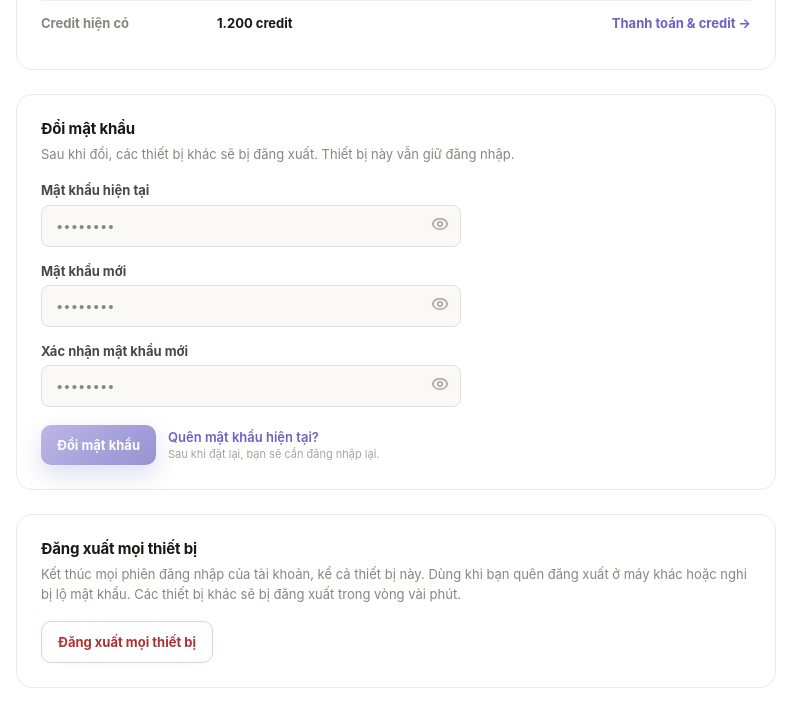
Test case: ProfilePage › huỷ xác nhận ⇒ không đăng xuất
(page scrolled)
Click the button "Đăng xuất mọi thiết bị" at point(127, 642), box [41,621,213,663]
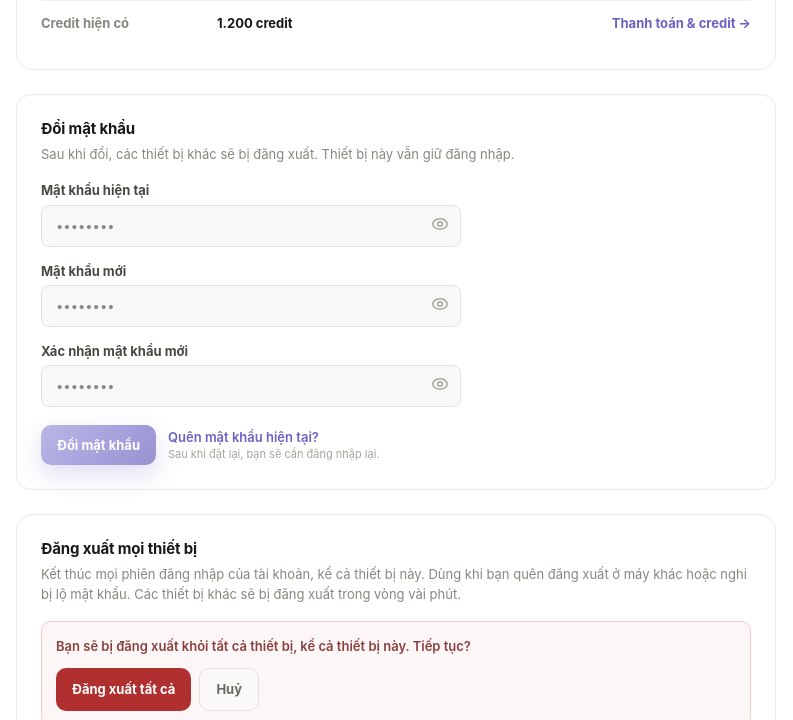
Click the button "Huỷ" at point(229, 689), box [199,668,259,710]
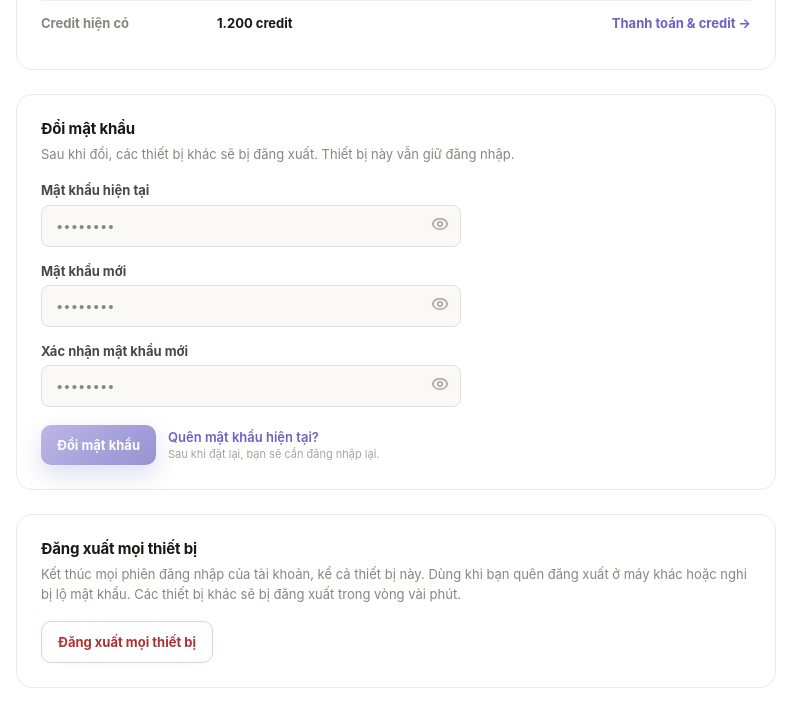
Now the button "Đăng xuất tất cả" is gone
